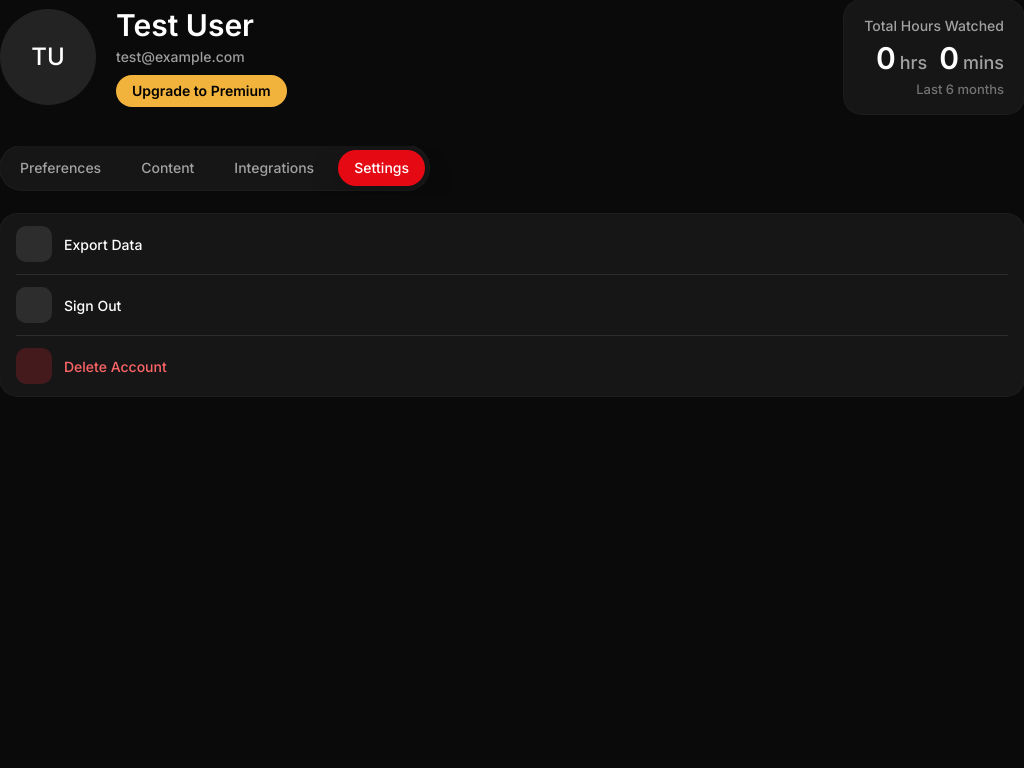
Test: ProfilePageClient delete account › opens the delete dialog from the settings tab
Click the button "Delete Account": (34, 366) [0, 336, 1023, 396]
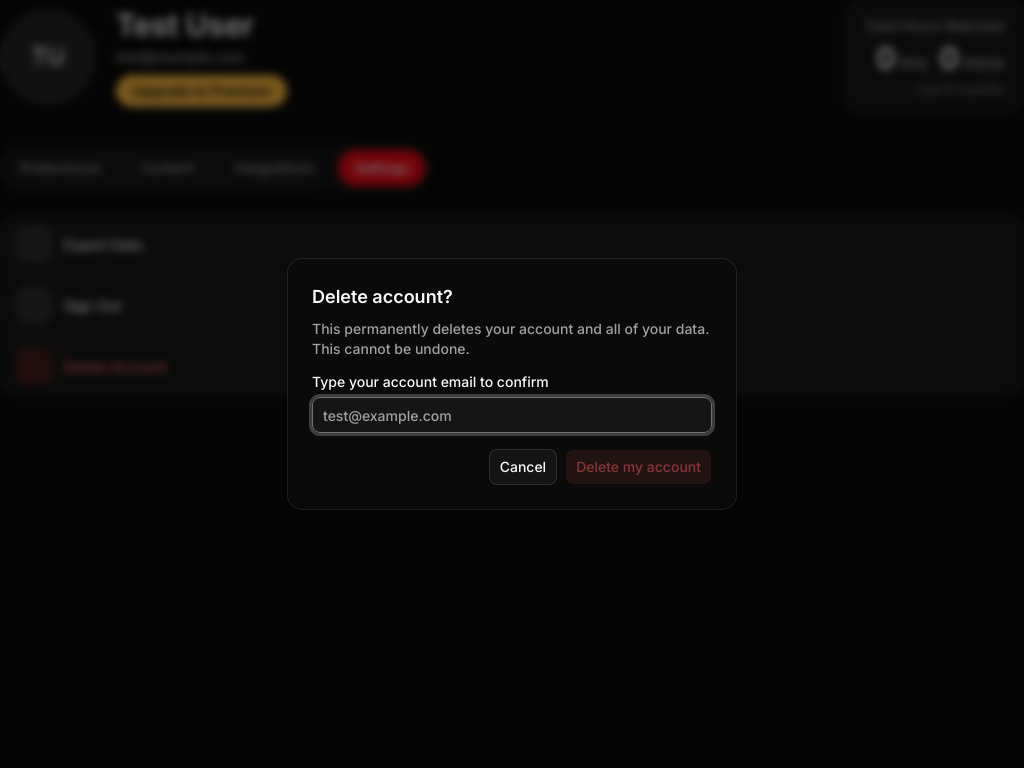
Expected: the heading "Delete account?" is shown, [312, 286, 453, 307]
Expected: the field labelled "Type your account email to confirm" is shown, [312, 397, 712, 433]
